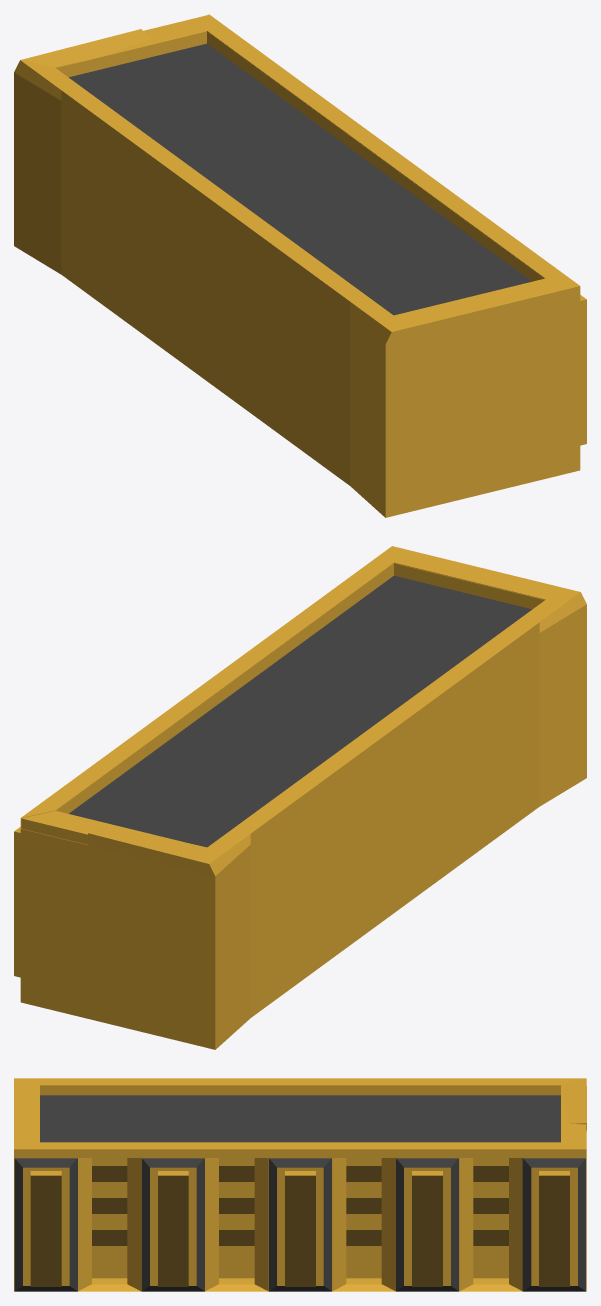
Rendered from GymFlip.fbx.
The picture shows the model from 3 angles, top to bottom: view 1: azimuth 30°, elevation 25°; view 2: azimuth 150°, elevation 25°; view 3: azimuth 270°, elevation 25°; orthographic projection. The views are drawn at different scales.
Parts seen in each view (by area): view 1: Stage Opened, Stage; view 2: Stage Opened, Stage; view 3: Stage Opened, Stage.
Boxes of the visible parts, x1,y1,x2,y2 form: Stage Opened: (14,14,580,517); Stage: (19,15,586,515); Stage Opened: (20,546,586,1049); Stage: (14,563,581,1047); Stage Opened: (14,1078,586,1291); Stage: (14,1085,586,1291).
Size of the model in its own units: 6879 by 5812 by 20864.
